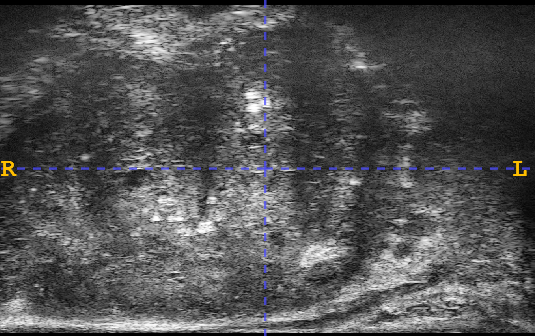calcifications: (118, 120, 242, 258), (204, 51, 320, 150), (292, 194, 355, 287)
